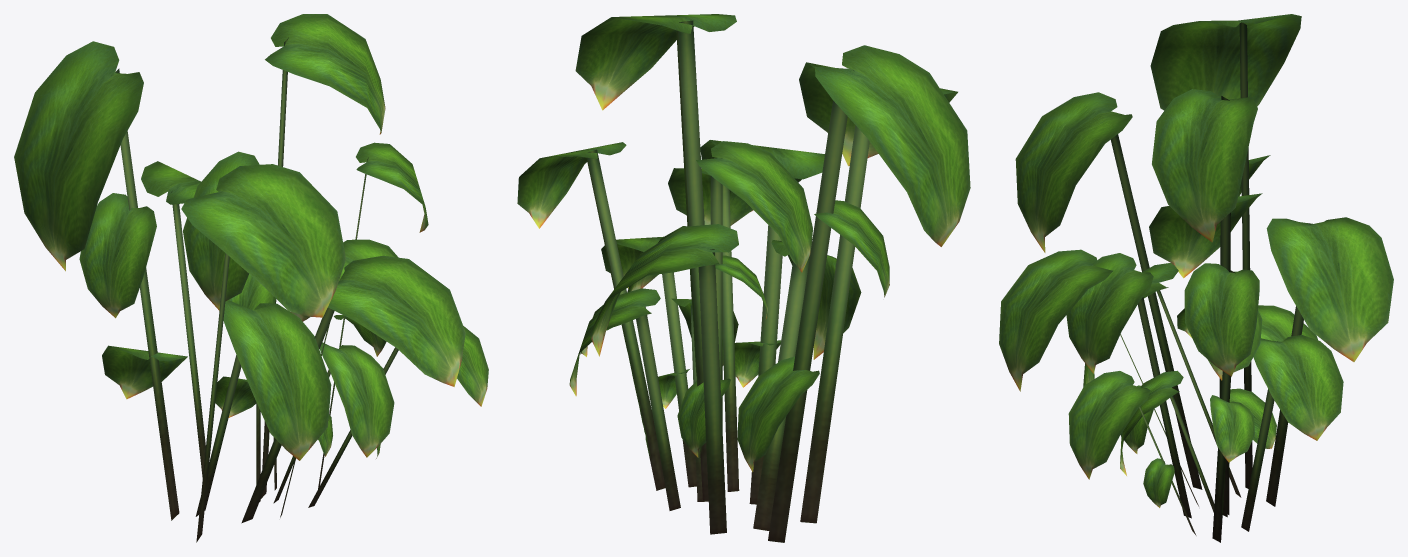
The model's file is leafplant_lod0.fbx.
3 views of the same model, side by side, from view 1: azimuth 30°, elevation 25°; view 2: azimuth 150°, elevation 25°; view 3: azimuth 270°, elevation 25° (orthographic). The views are drawn at different scales.
Parts seen in each view (by area): view 1: Mesh Object; view 2: Mesh Object; view 3: Mesh Object.
Boxes of the visible parts, x1=… form: Mesh Object: x1=14, y1=14, x2=488, y2=542; Mesh Object: x1=517, y1=14, x2=970, y2=542; Mesh Object: x1=999, y1=14, x2=1393, y2=542.
Bounding box in the file's own units: 1.62 × 1.89 × 1.5.
